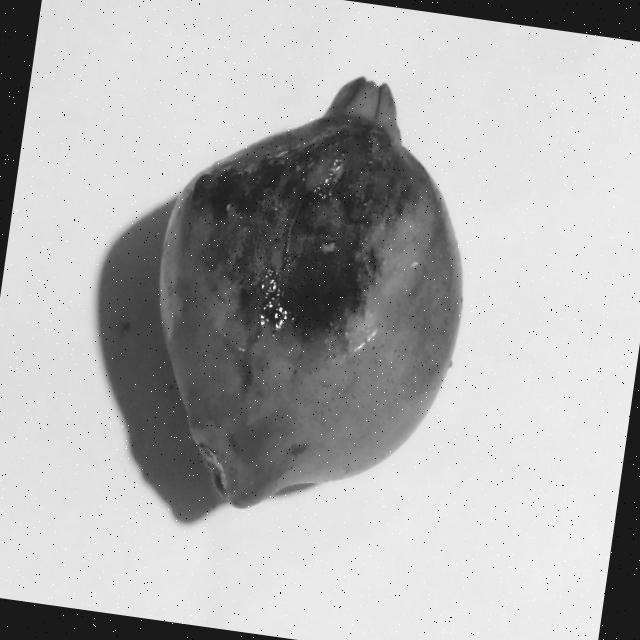Rotten: (123, 52, 496, 545)
